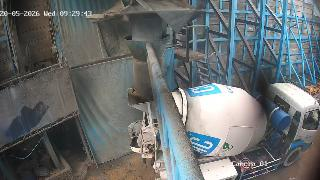cement_mixer_truck: (127, 83, 320, 180)
swing_chute: (126, 35, 171, 98)
